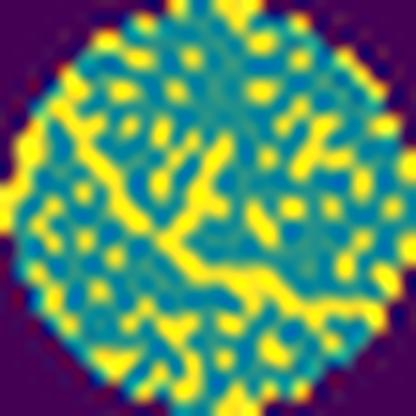Scratch: (46, 68, 388, 346)
